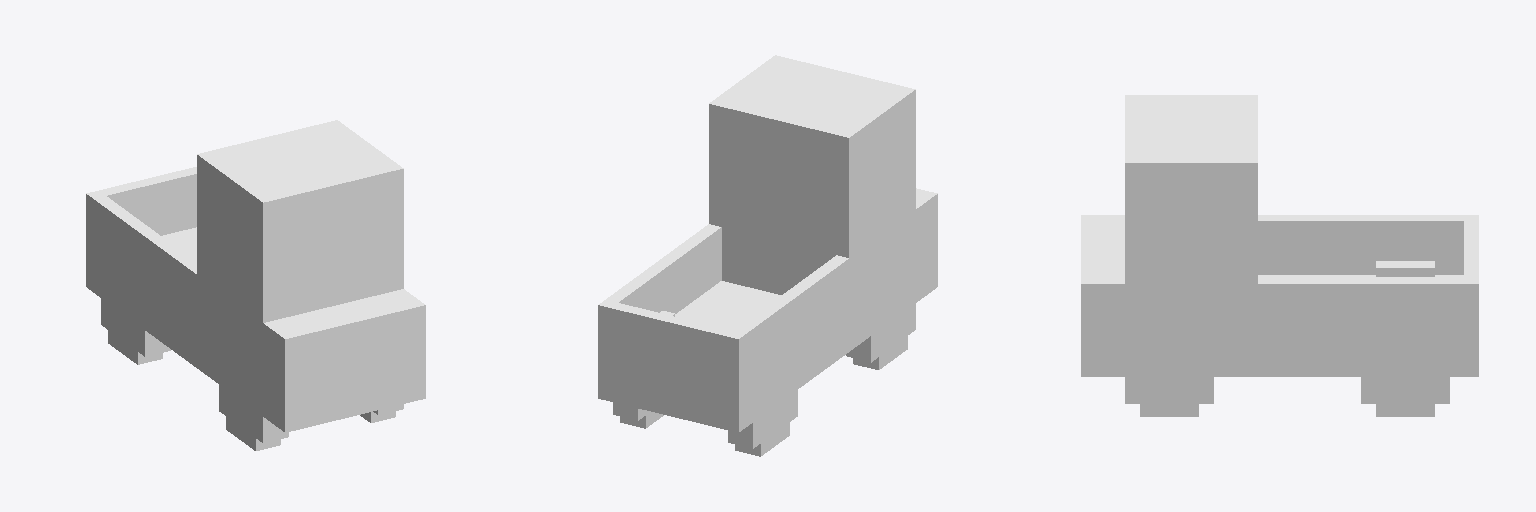
The model's file is pickuptruck_pink.obj.
3 renders of one model, left to right at view 1: azimuth 30°, elevation 25°; view 2: azimuth 150°, elevation 25°; view 3: azimuth 270°, elevation 25°, orthographic.
Visible parts, largest first — view 1: pickuptruck_pink; view 2: pickuptruck_pink; view 3: pickuptruck_pink.
Part boxes in pixels (x1,y1,x2,y2): pickuptruck_pink: (86,120,425,450); pickuptruck_pink: (598,55,937,456); pickuptruck_pink: (1081,95,1478,416).
Size of the model in its own units: 11 by 19 by 27.